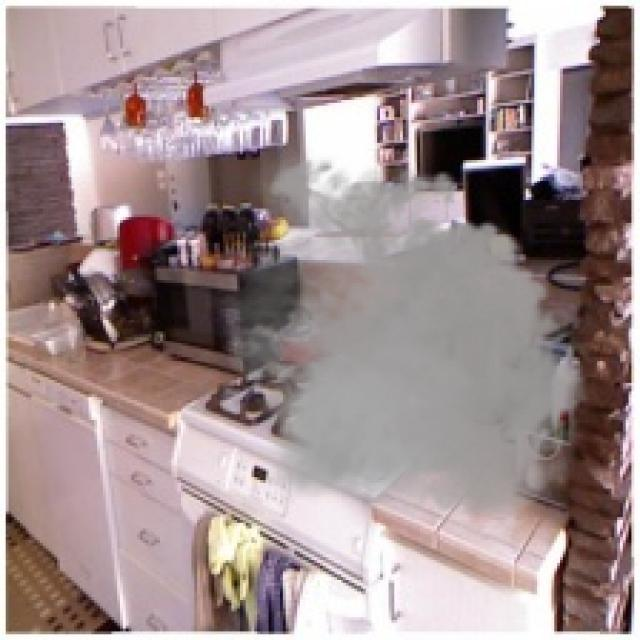smoke: (206, 146, 600, 531)
